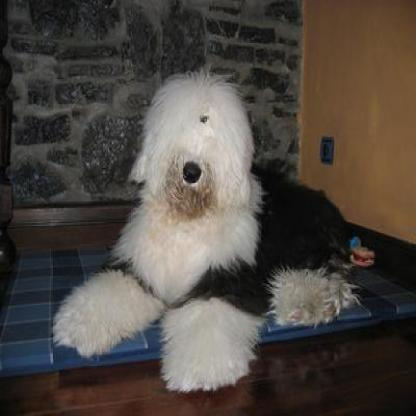Old_English_sheepdog: (53, 76, 354, 387)
